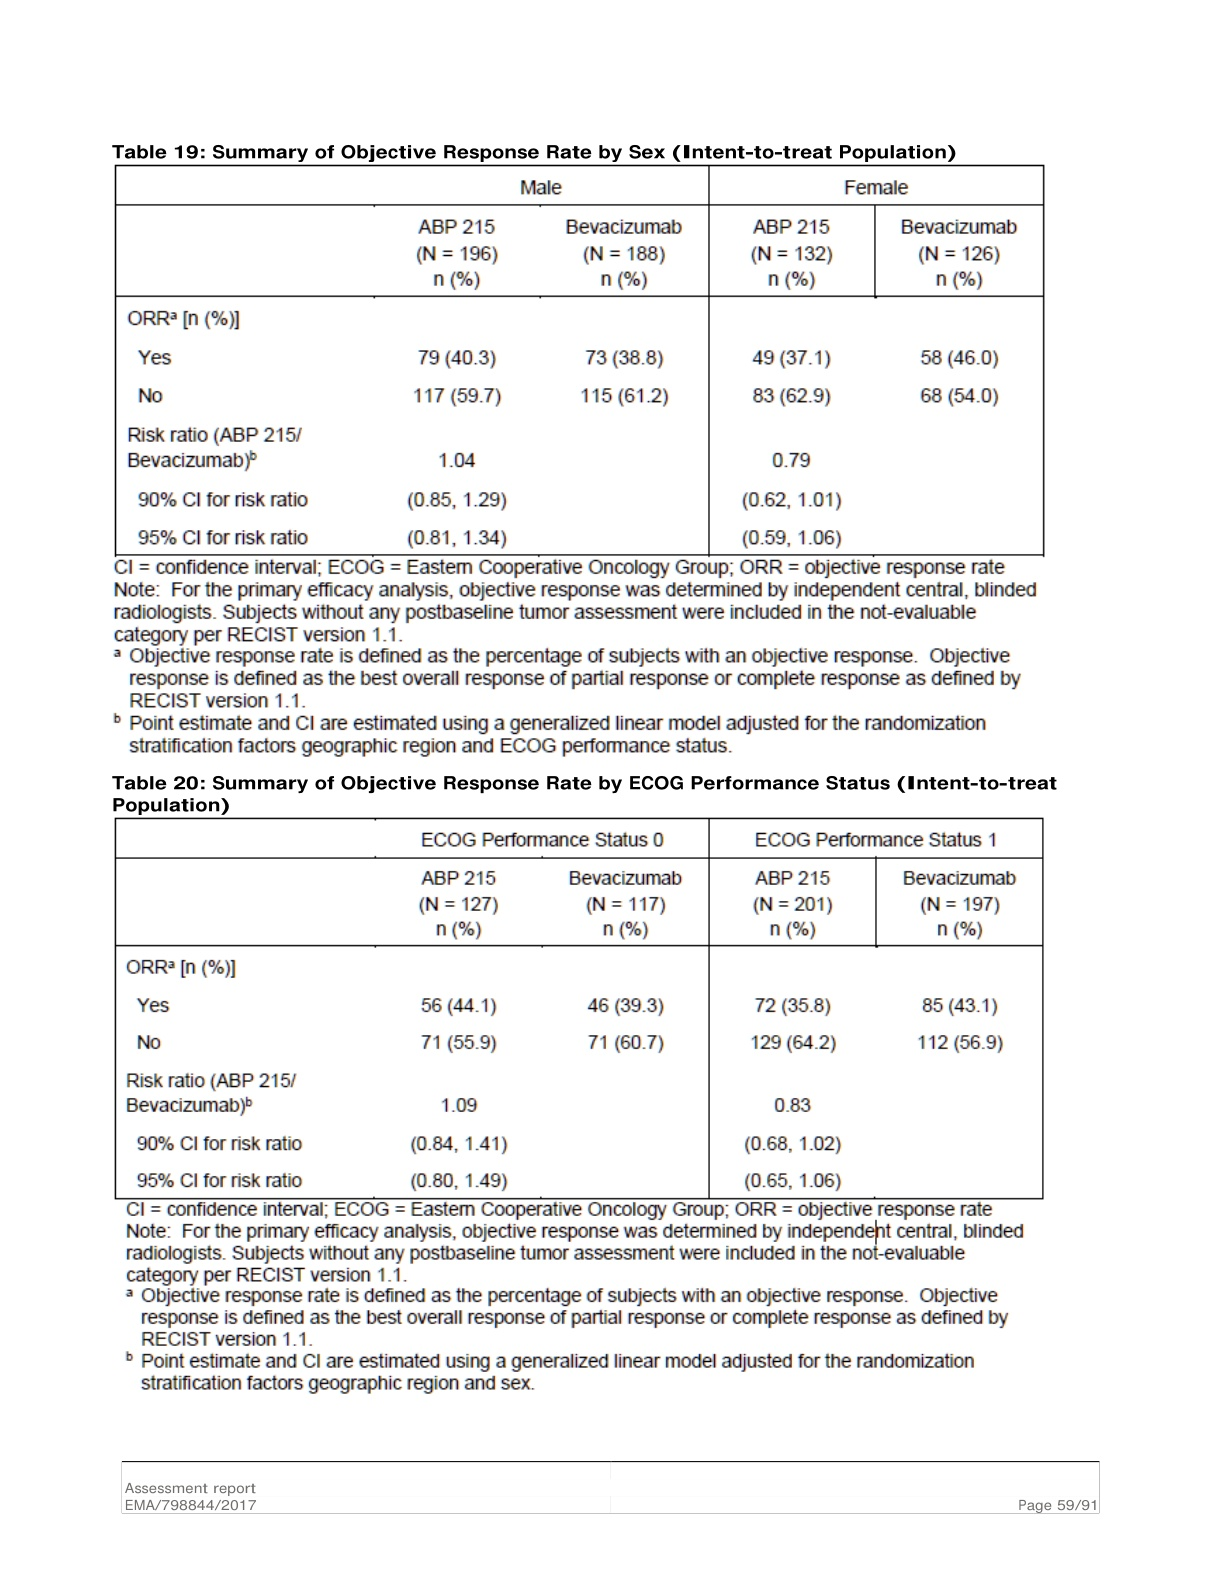partial_lined_merged_cells: (114, 165, 1045, 557), (113, 816, 1047, 1201)
